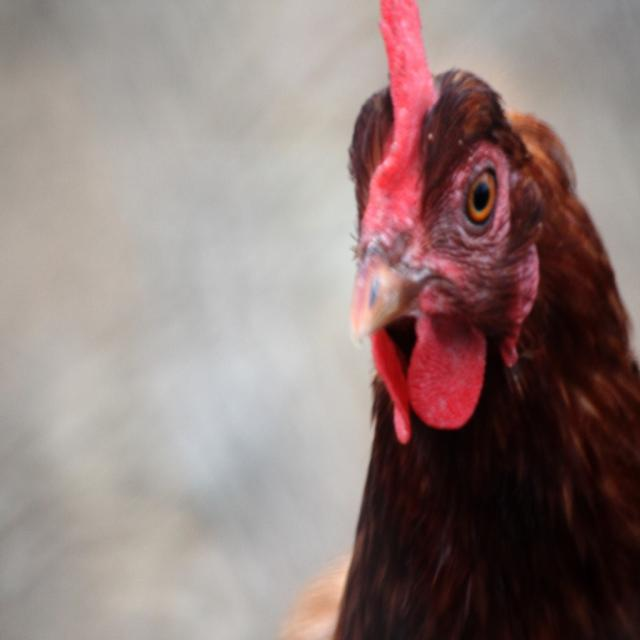Chicken: (319, 66, 639, 638)
